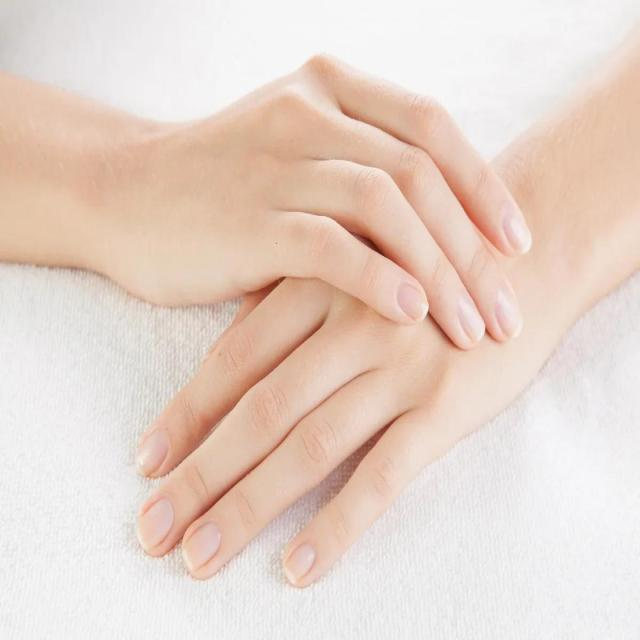Nail: (137, 496, 175, 553), (181, 523, 221, 572), (136, 428, 168, 477), (494, 288, 524, 338), (457, 293, 485, 344), (282, 544, 316, 585), (502, 210, 532, 253), (397, 282, 429, 322)
